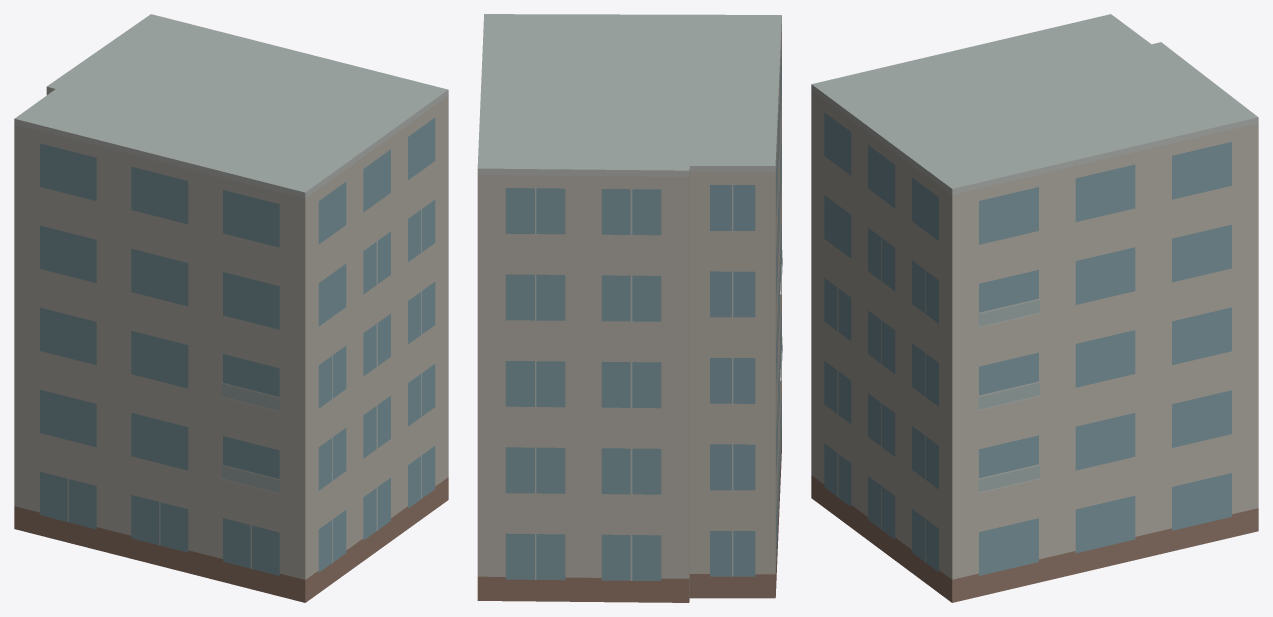
The model's file is survey-upis-32933734.glb.
3 renders of one model, left to right at view 1: azimuth 30°, elevation 25°; view 2: azimuth 150°, elevation 25°; view 3: azimuth 270°, elevation 25°, orthographic. The views are drawn at different scales.
Visible parts, largest first — view 1: survey-upis-32933734.tmp; view 2: survey-upis-32933734.tmp; view 3: survey-upis-32933734.tmp.
Boxes of the visible parts, box(x1,y1,x2,y2) form: survey-upis-32933734.tmp: box(14, 14, 448, 602); survey-upis-32933734.tmp: box(477, 14, 782, 602); survey-upis-32933734.tmp: box(811, 14, 1258, 602).
Size of the model in its own units: 15.24 by 16.8 by 16.45.
